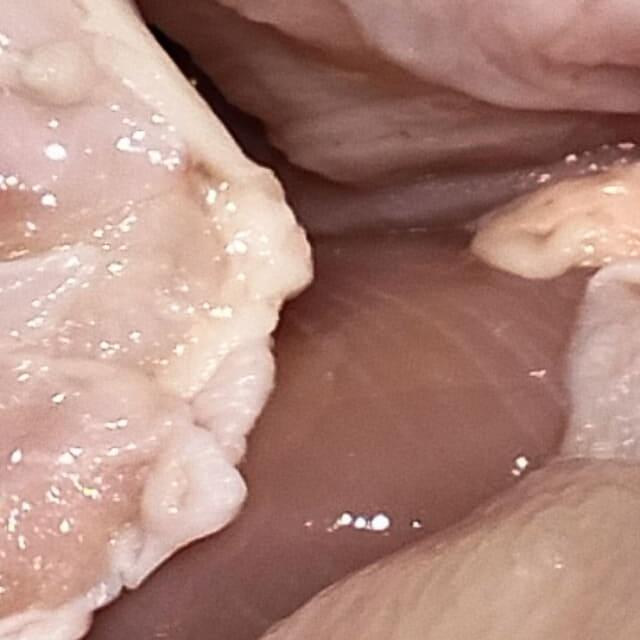chicken: (0, 0, 345, 640), (0, 0, 640, 194)
